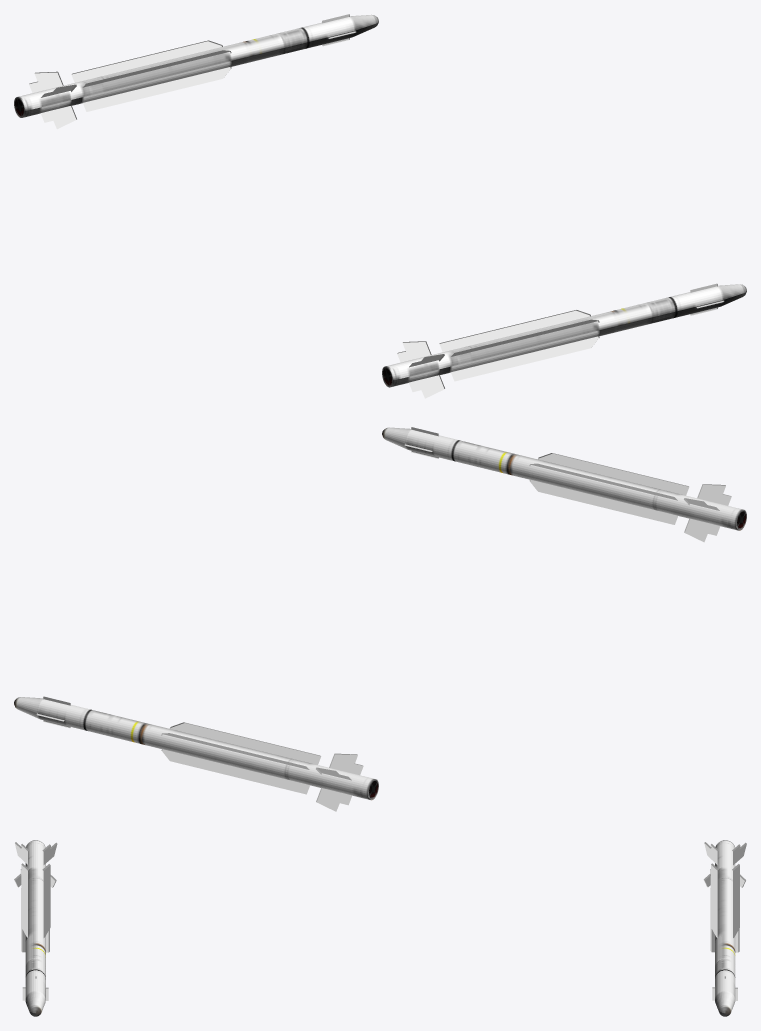
File: m20dmicair16.glb
3 renders of one model, top to bottom at view 1: azimuth 30°, elevation 25°; view 2: azimuth 150°, elevation 25°; view 3: azimuth 270°, elevation 25°, orthographic. The views are drawn at different scales.
Visible parts, largest first — view 1: 円柱.001, 円柱.023; view 2: 円柱.023, 円柱.001; view 3: 円柱.001, 円柱.023.
Boxes of the visible parts, bbox=[...] form: 円柱.001: bbox=[14, 14, 378, 129]; 円柱.023: bbox=[382, 283, 746, 398]; 円柱.023: bbox=[382, 427, 746, 542]; 円柱.001: bbox=[14, 696, 378, 811]; 円柱.001: bbox=[703, 840, 746, 1016]; 円柱.023: bbox=[14, 840, 57, 1016].
Size of the model in its own units: 3.55 by 0.398 by 6.71.
Materials: 1 (1 with a texture image).
